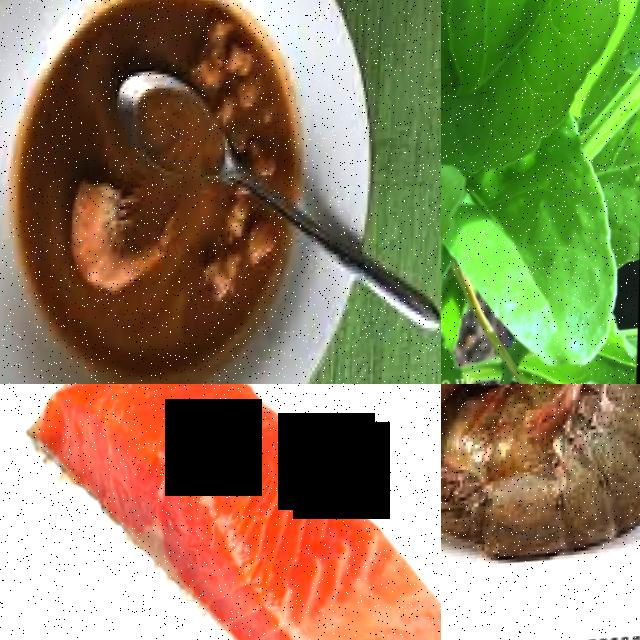salmon: (20, 384, 441, 640)
shrimp: (441, 440, 640, 580), (68, 175, 178, 300), (563, 384, 640, 553)
spinach: (457, 171, 621, 384), (441, 0, 632, 178)
